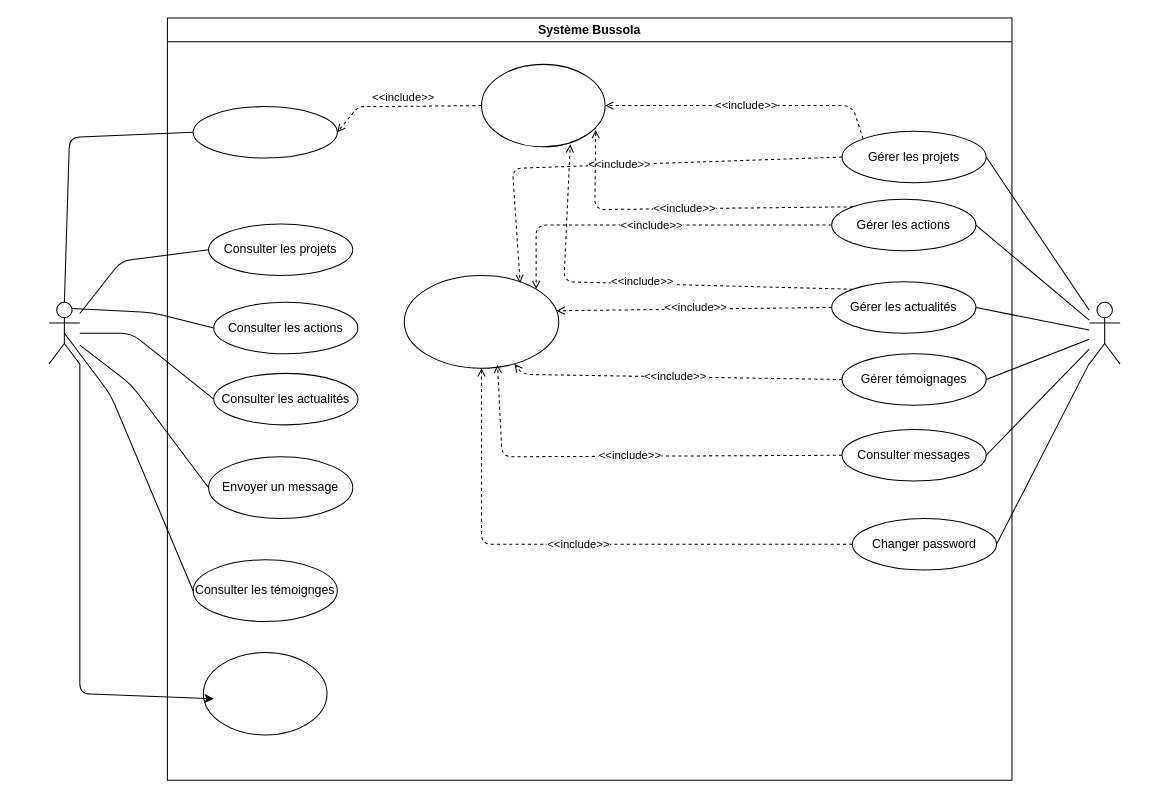
This 1162x798 diagram has some shape labels left out. The shapes that lost their labels are listed below. From the top down, each one's box as (x1, y1, x2, y2) in pixels, then its label:
(480, 63, 605, 147): Notifié les abonnée
(192, 106, 337, 158): S'abonner a la Newsletter
(48, 301, 80, 364): Visiteur / Abonné
(403, 274, 559, 368): S'authentifier (JWT)
(1088, 301, 1120, 364): Administrateur
(202, 651, 327, 735): installer la pwa (hors-ligne partiel
